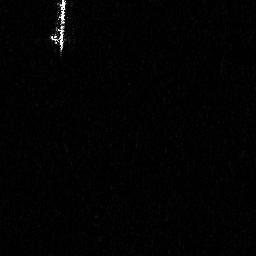ship: (50, 1, 67, 54)
